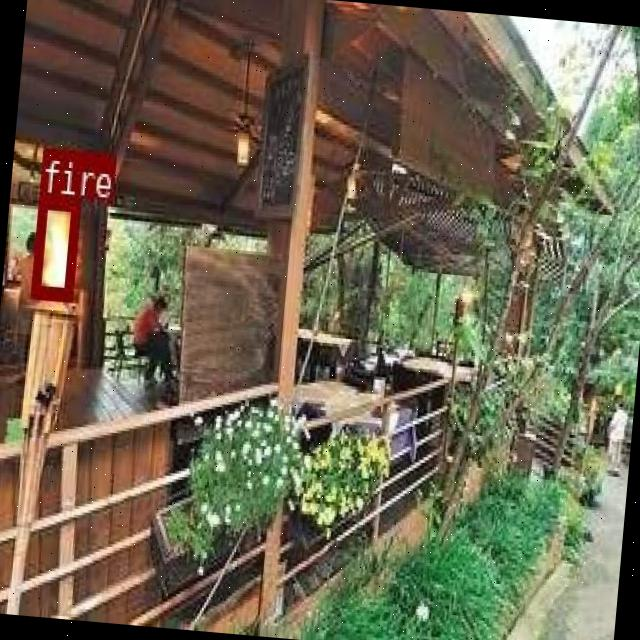fire: (30, 193, 79, 298)
